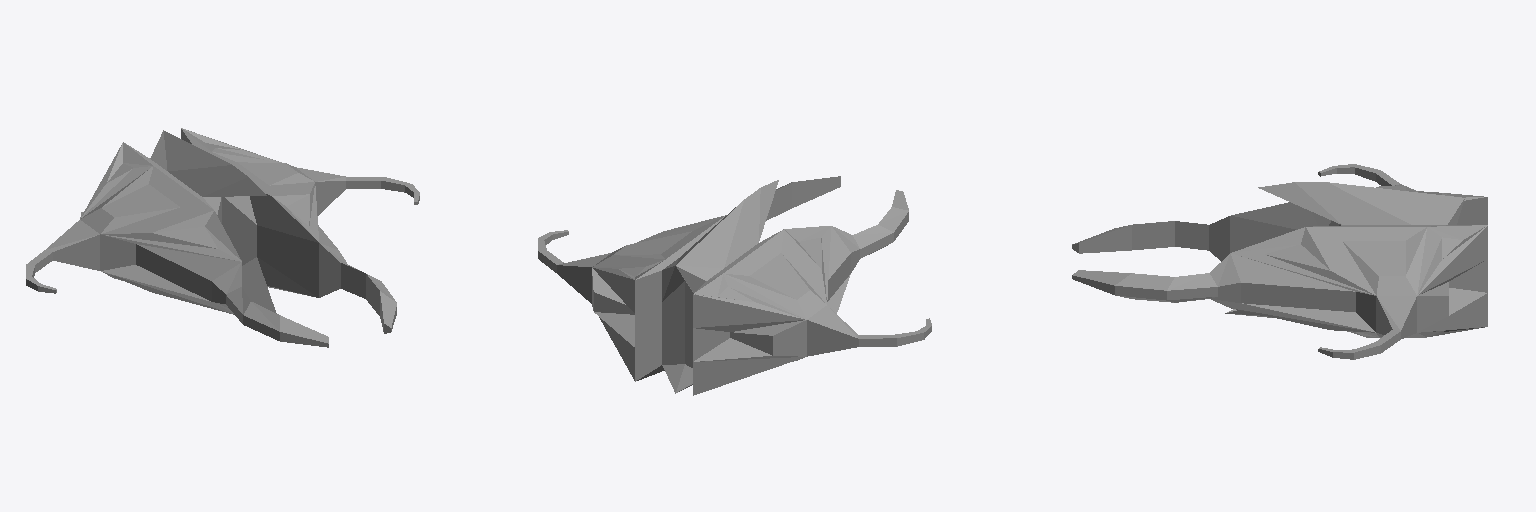
File: Scarab.obj
The picture shows the model from 3 angles: view 1: azimuth 30°, elevation 25°; view 2: azimuth 150°, elevation 25°; view 3: azimuth 270°, elevation 25°; orthographic projection.
Visible parts, largest first — view 1: Cube; view 2: Cube; view 3: Cube.
Boxes of the visible parts, x1,y1,x2,y2 form: Cube: [26, 128, 419, 347]; Cube: [538, 176, 931, 395]; Cube: [1072, 164, 1487, 359].
Size of the model in its own units: 13.41 by 4.89 by 12.49.